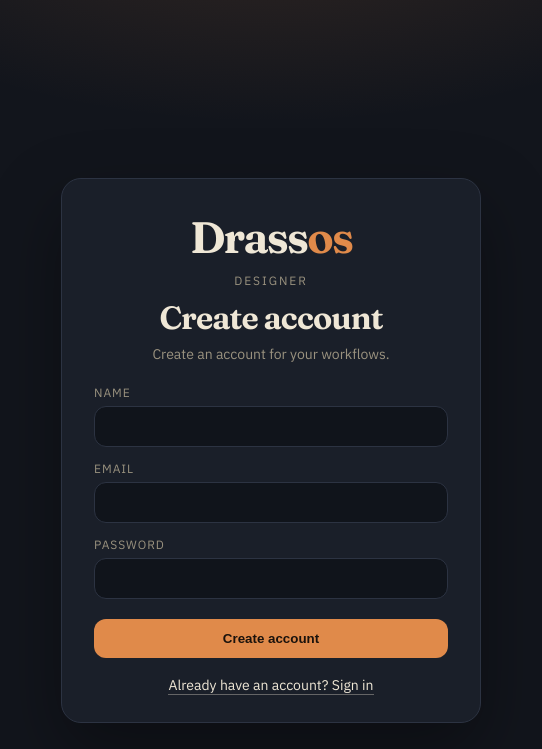
it: designer session routing › explains when account registration cannot reach the service
Type "Ada" into the field labelled "Name".
click(271, 426); type("Ada")  # box [94,406,448,446]
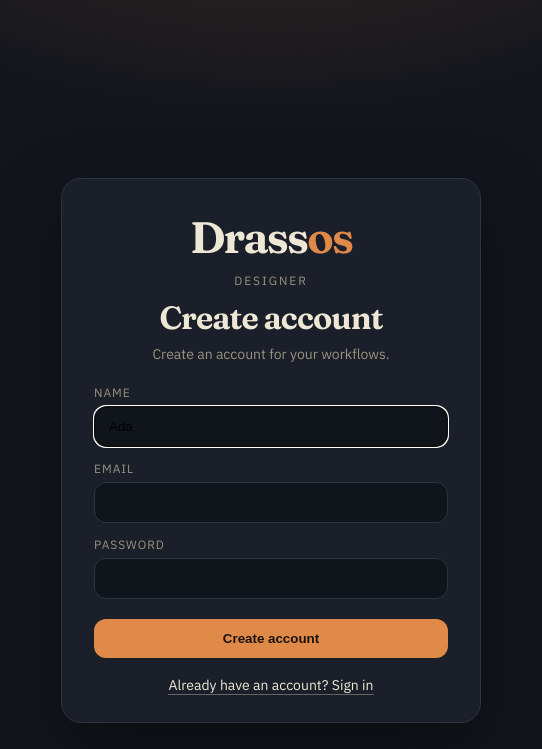
Type "ada@example.com" into the field labelled "Email".
click(271, 502); type("ada@example.com")  # box [94,482,448,522]
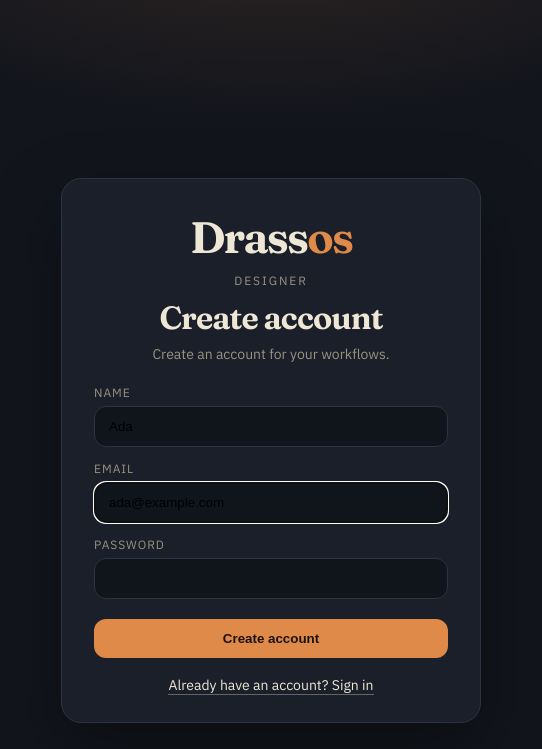
Type "secret" into the password field labelled "Password".
click(271, 578); type("secret")  # box [94,558,448,598]
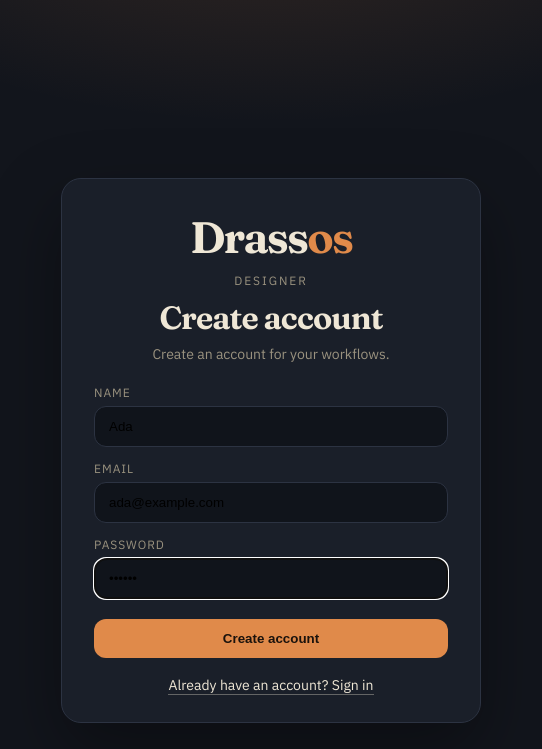
Click the button "Create account".
click(271, 638)  # box [94,618,448,658]
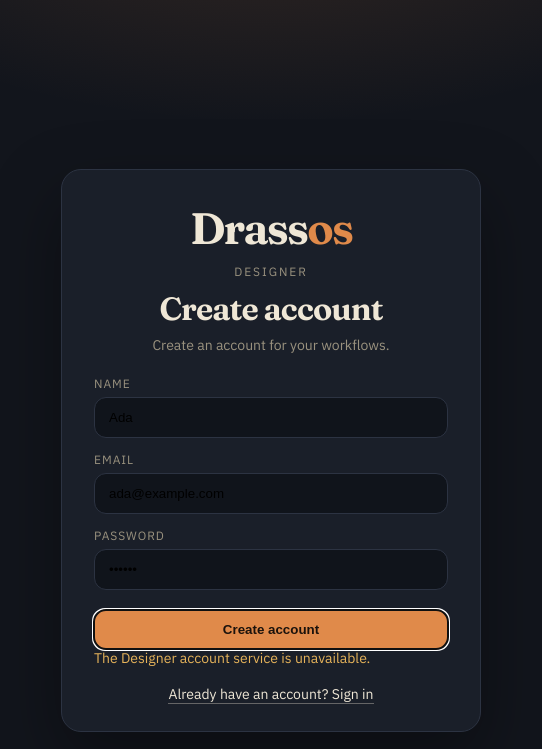
Check: the text "The Designer account service is unavailable." is shown, box [94,648,370,666]
